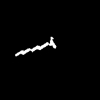half_double_crochet: (15, 37, 55, 55)
